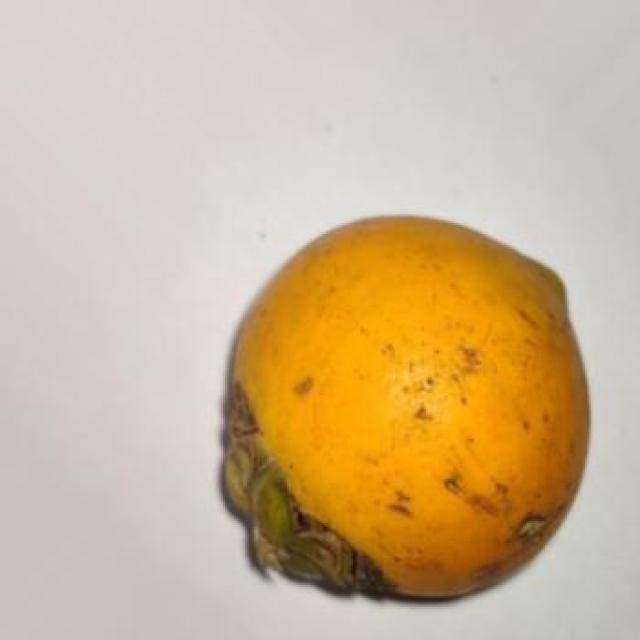good: (221, 216, 591, 603)
